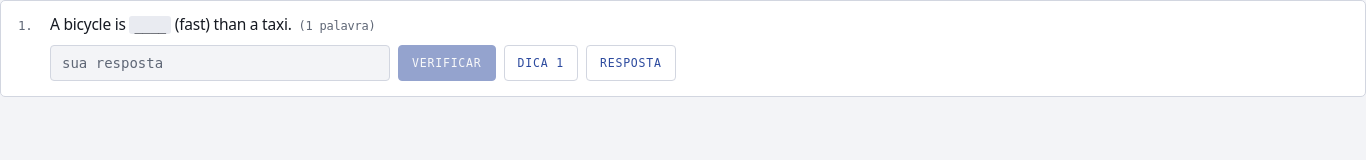
it: ExerciseCard › o botão Verificar só liga quando há texto
Expected: the button "Verificar" is disabled, [398, 45, 496, 81]
In the field: (220, 63) [50, 45, 390, 81], type "faster"
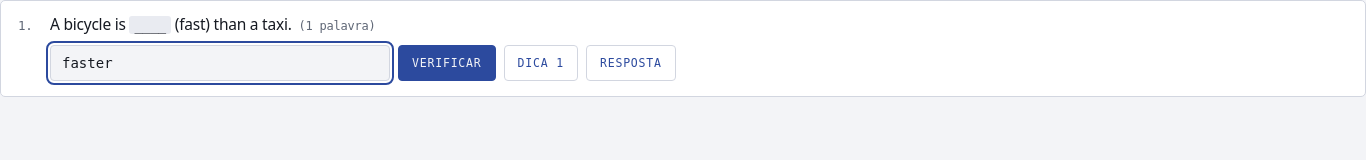
Now the button "Verificar" is enabled, box [398, 45, 496, 81]
